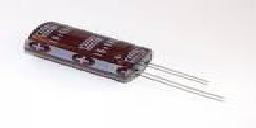Electrolytic-capacitor: (23, 20, 226, 106)
